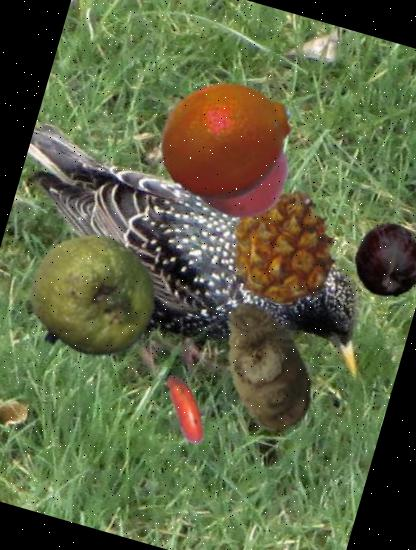Banana: (142, 362, 236, 455)
Ginger: (180, 281, 349, 450)
Limes: (11, 217, 171, 377)
Pineapple: (209, 172, 356, 320)
Plum: (341, 213, 416, 306)
Pomegranate: (178, 110, 302, 234)
Tangelo: (144, 57, 310, 223)
